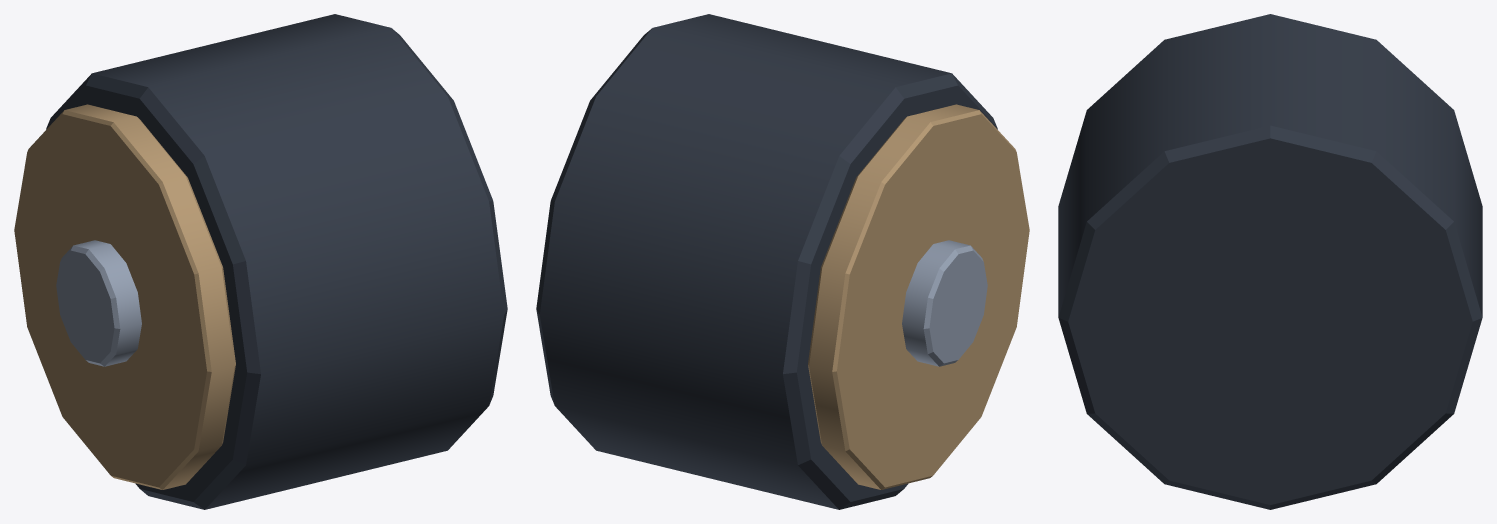
Rendered from Module_DrumMag_v002.fbx.
The picture shows the model from 3 angles, left to right: view 1: azimuth 30°, elevation 25°; view 2: azimuth 150°, elevation 25°; view 3: azimuth 270°, elevation 25°; orthographic projection. The views are drawn at different scales.
Parts seen in each view (by area): view 1: Module_DrumMag__MAGAZINE_MESH; view 2: Module_DrumMag__MAGAZINE_MESH; view 3: Module_DrumMag__MAGAZINE_MESH.
Part boxes in pixels (left/top/right/bottom): Module_DrumMag__MAGAZINE_MESH: left=14, top=14, right=507, bottom=509; Module_DrumMag__MAGAZINE_MESH: left=536, top=14, right=1029, bottom=509; Module_DrumMag__MAGAZINE_MESH: left=1058, top=14, right=1482, bottom=509.
Size of the model in its own units: 0.435 by 0.54 by 0.54.
